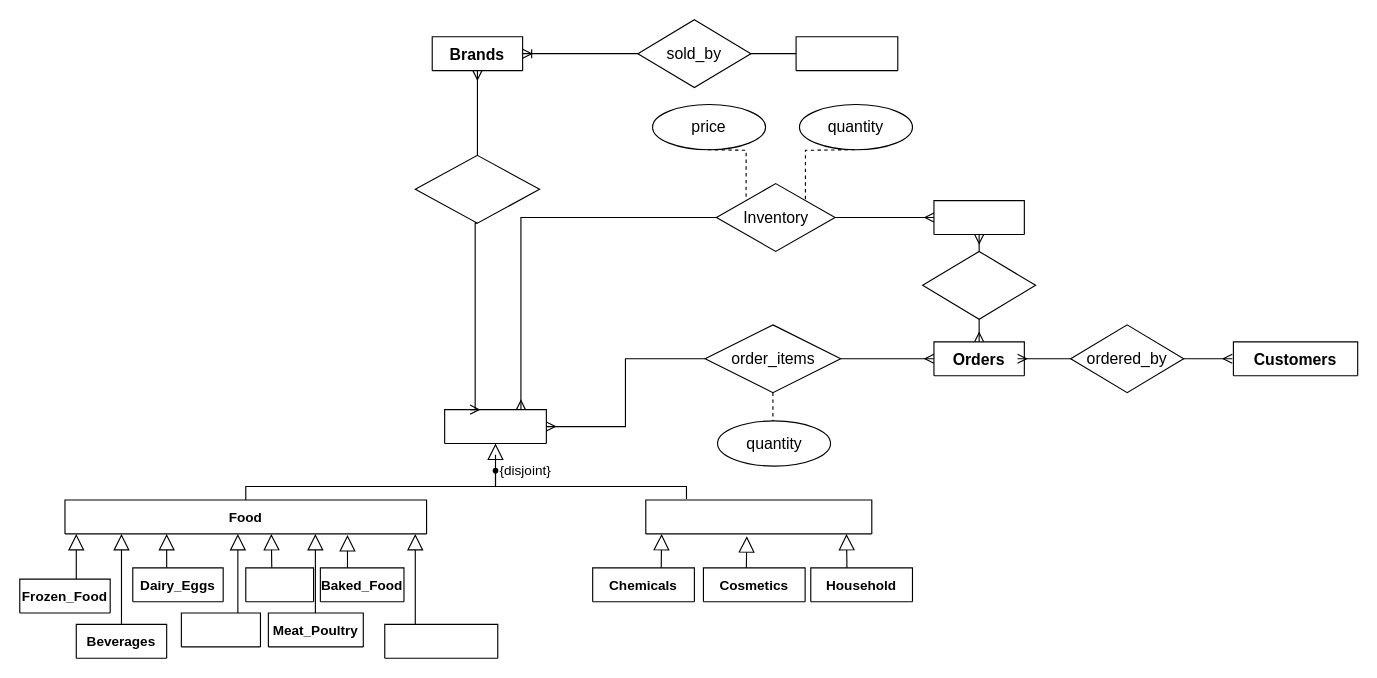
The diagram is 1377 pixels wide and 678 high, and some of its shapes have lost their labels. Each missing label, with the centre of its shape:
"Fish" belongs at point (279, 584).
"Non_Food" belongs at point (758, 516).
"odrered_from" belongs at point (979, 284).
"Product" belongs at point (495, 426).
"product_brand" belongs at point (477, 188).
"Snacks" belongs at point (220, 629).
"Stores" belongs at point (978, 216).
"Veget_Fruits" belongs at point (441, 640).
"Vendors" belongs at point (846, 53).
